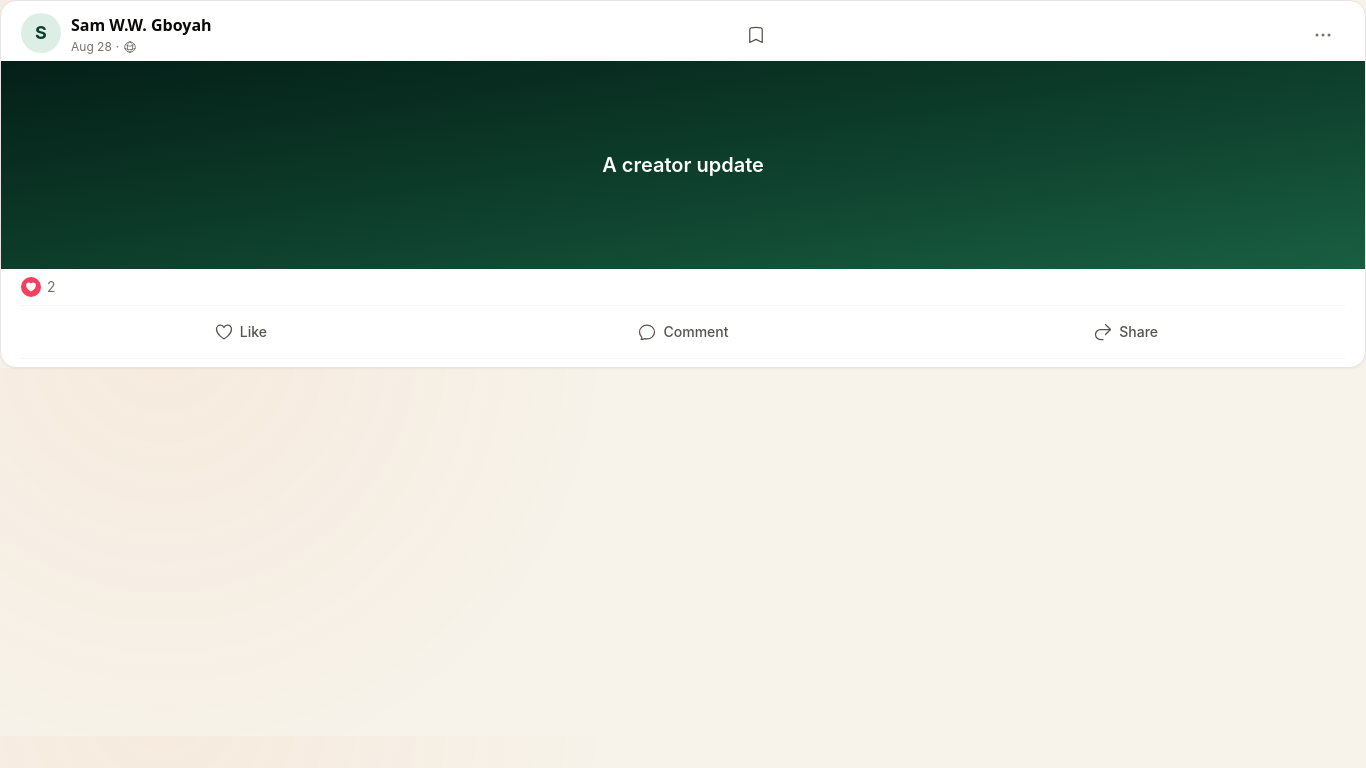
Scenario: CreatorPostCard actions › opens the overflow menu (edit, delete, safety) and dismisses it outside or with Escape
Click the button named "More post actions": (1323, 35) [1301,13,1345,57]
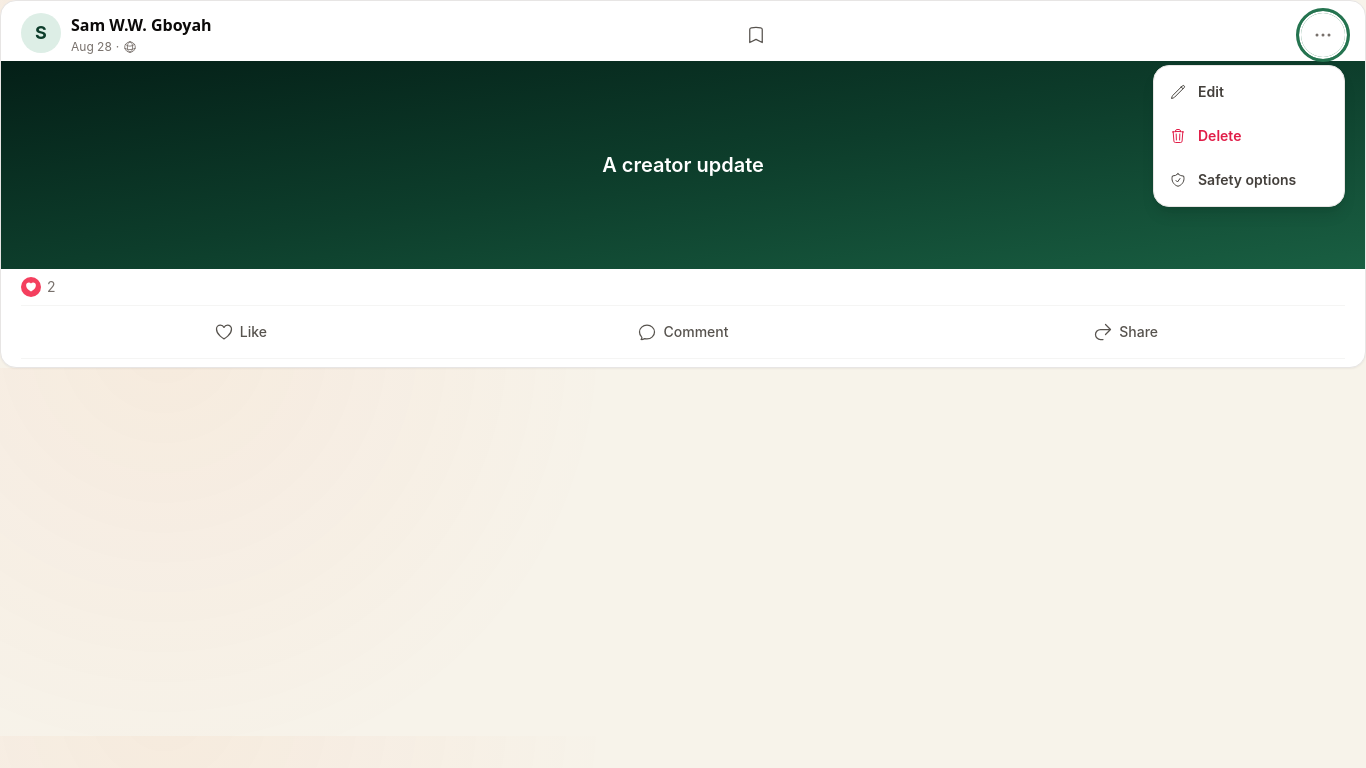
Check: the menu is shown, box [1153,65,1345,207]
Check: the number of menu items is 3, box [1158,70,1340,114]; [1158,114,1340,158]; [1158,158,1340,202]
Check: the menu item "Edit" is shown, box [1158,70,1340,114]
Press the mouse on the element named "Public": (683, 184) [0,0,1365,368]
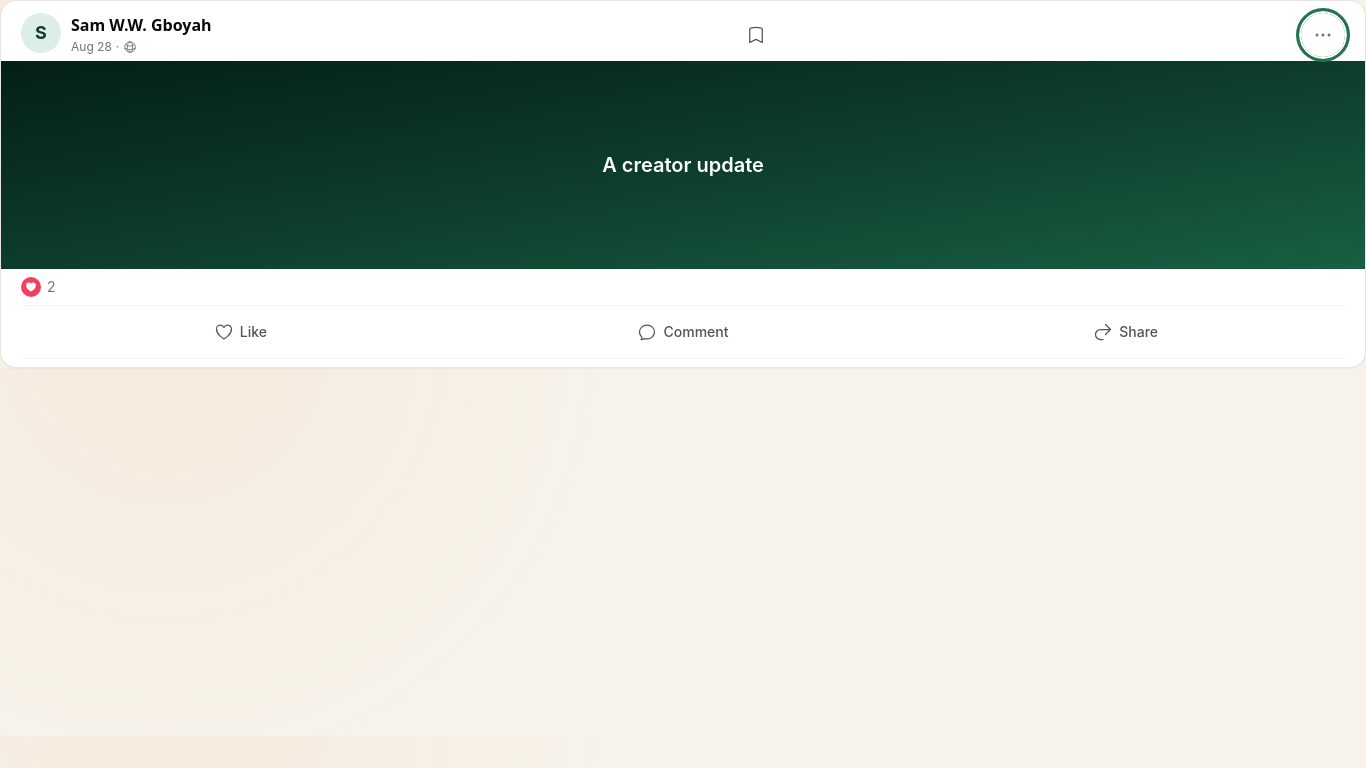
Check: the menu is gone
Click the button named "More post actions": (1323, 35) [1301,13,1345,57]
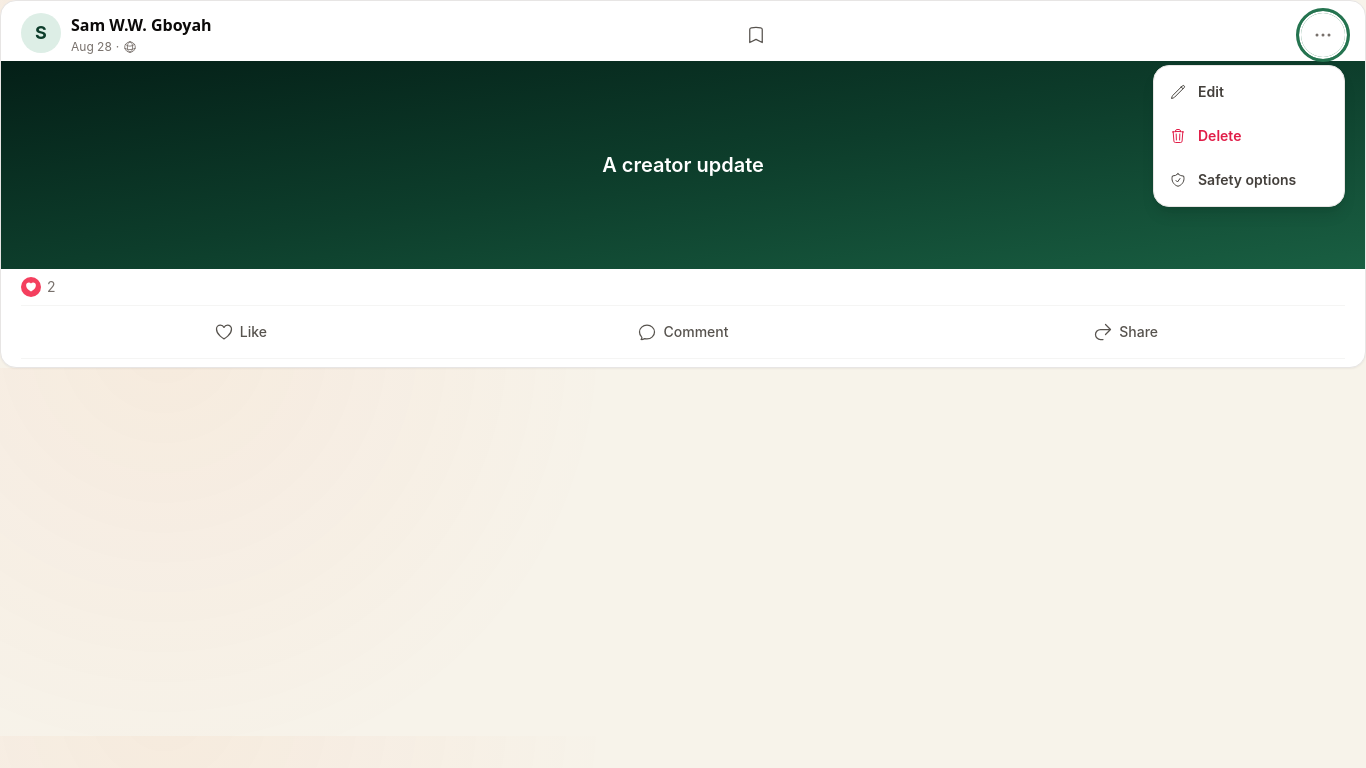
Press Escape
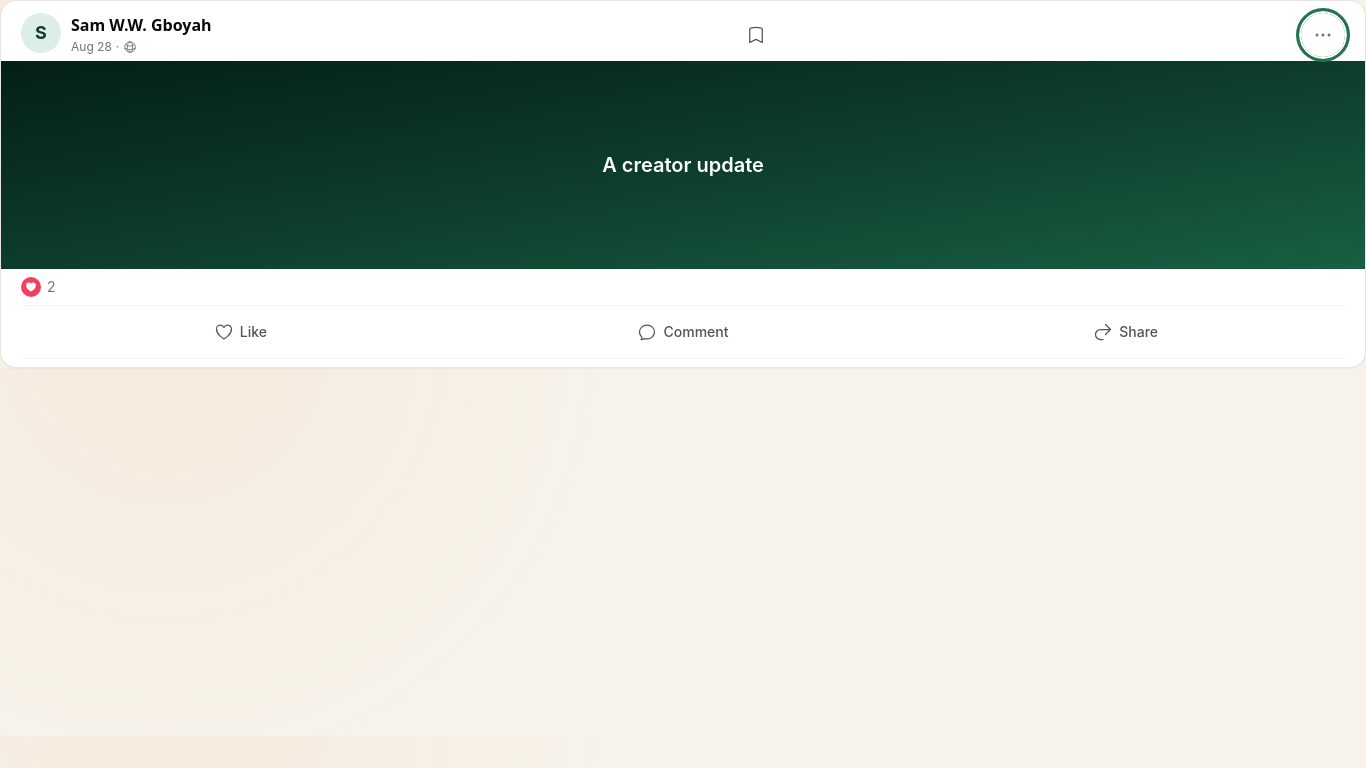
Check: the menu is gone
